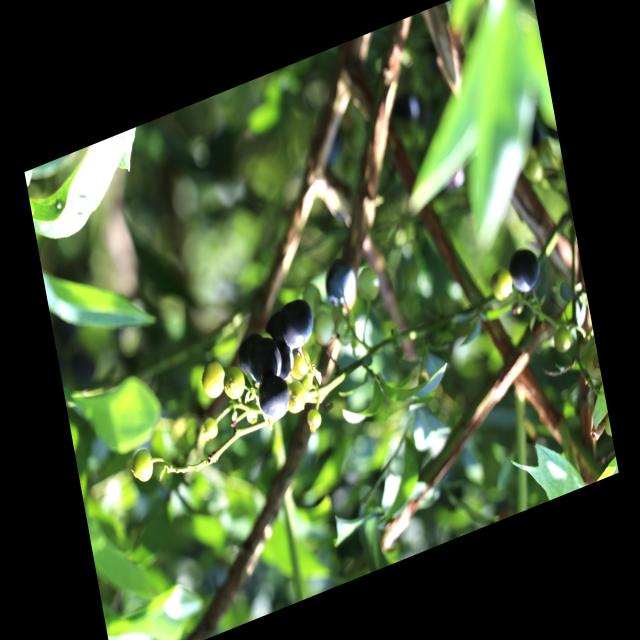blueberry: (277, 293, 319, 352), (320, 254, 360, 311), (253, 370, 292, 428), (245, 338, 284, 387), (507, 244, 543, 297)
blueberry-unripe: (198, 358, 228, 405), (129, 444, 156, 486), (487, 266, 515, 306), (220, 364, 248, 404), (283, 380, 308, 416), (288, 348, 312, 383), (202, 413, 220, 441), (305, 408, 323, 432)
